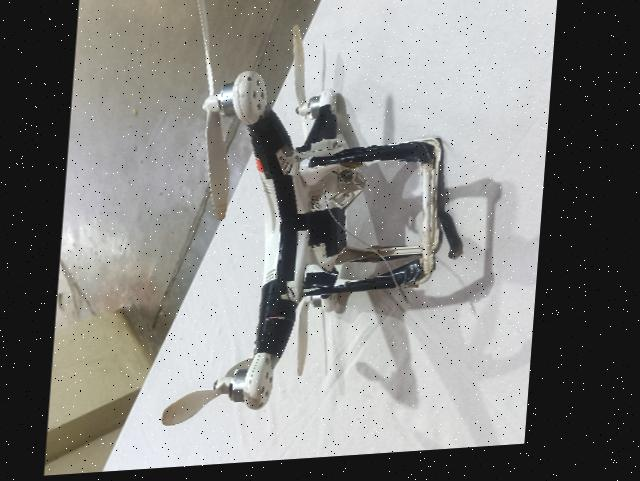drone: (161, 50, 462, 433)
